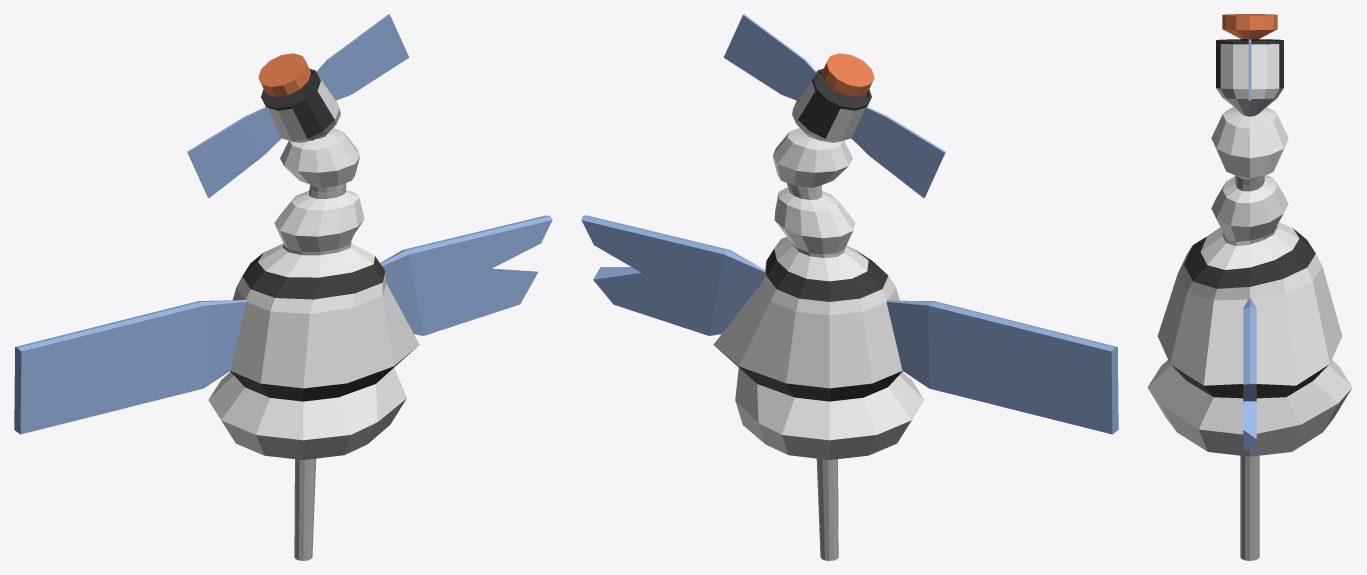
File: Satellite.fbx
3 renders of one model, left to right at view 1: azimuth 30°, elevation 25°; view 2: azimuth 150°, elevation 25°; view 3: azimuth 270°, elevation 25°, orthographic. The views are drawn at different scales.
Visible parts, largest first — view 1: Satellite2; view 2: Satellite2; view 3: Satellite2.
Part boxes in pixels (x1,y1,x2,y2): Satellite2: (14,14,552,560); Satellite2: (581,14,1118,560); Satellite2: (1147,14,1352,560).
Size of the model in its own units: 422 by 395 by 131.
